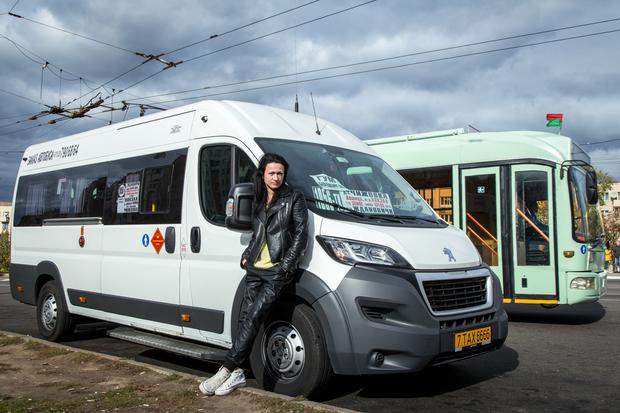van: (11, 98, 511, 399)
